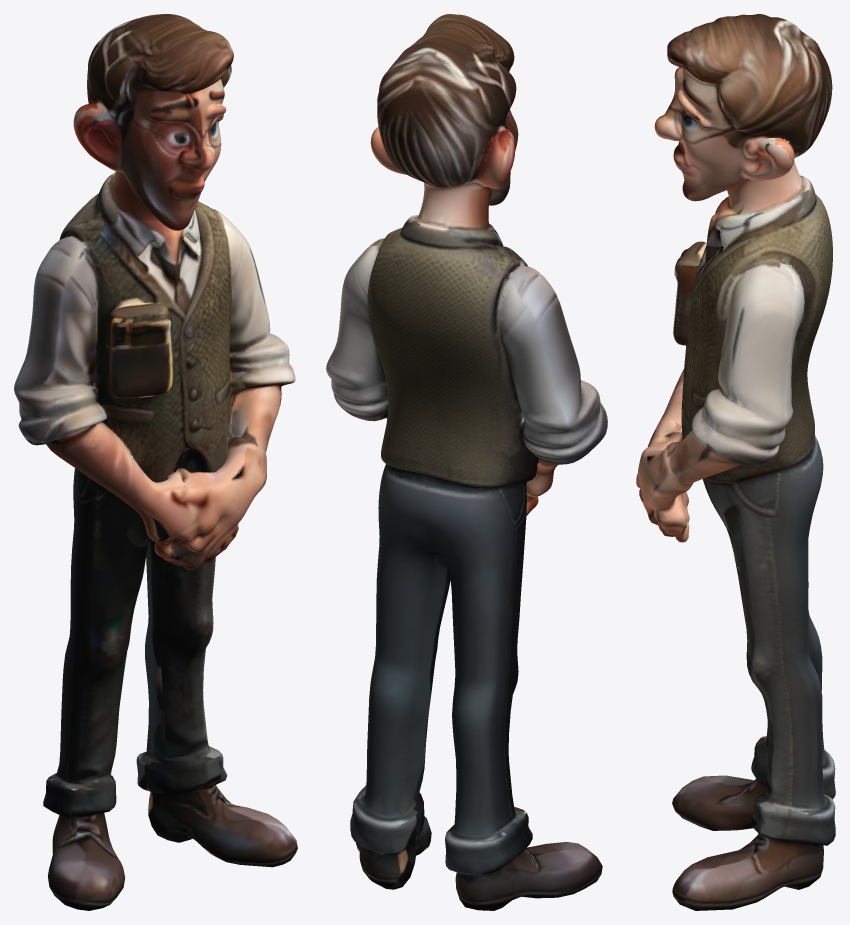
The picture shows the model from 3 angles, left to right: view 1: azimuth 30°, elevation 25°; view 2: azimuth 150°, elevation 25°; view 3: azimuth 270°, elevation 25°; orthographic projection.
Parts seen in each view (by area): view 1: Character; view 2: Character; view 3: Character.
Boxes of the visible parts, box(x1,y1,x2,y2) form: Character: box(14, 14, 297, 910); Character: box(326, 14, 607, 910); Character: box(636, 14, 835, 910).
Bounding box in the file's own units: 0.5667 × 1.75 × 0.3742.
1 material, 1 textured.
